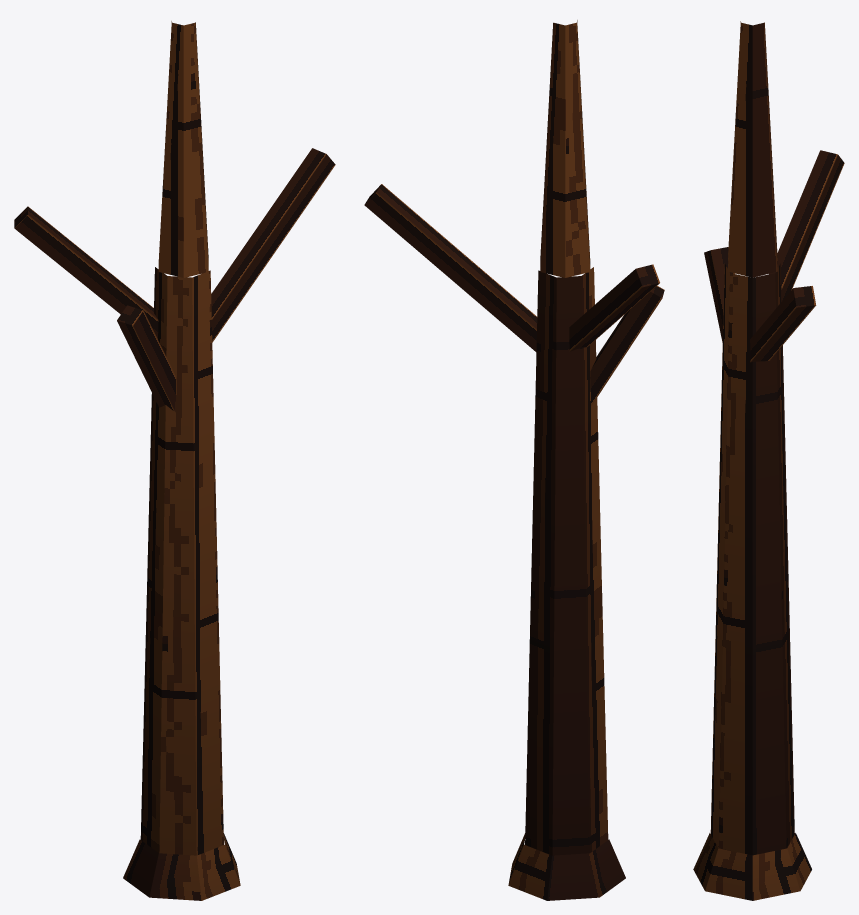
File: birch_3_trunk.glb
3 views of the same model, side by side, from view 1: azimuth 30°, elevation 25°; view 2: azimuth 150°, elevation 25°; view 3: azimuth 270°, elevation 25° (orthographic).
Parts seen in each view (by area): view 1: birch_3_trunk; view 2: birch_3_trunk; view 3: birch_3_trunk.
Part boxes in pixels (x1,y1,x2,y2): birch_3_trunk: (14,21,335,900); birch_3_trunk: (364,20,664,900); birch_3_trunk: (693,21,844,900).
Size of the model in its own units: 2.08 by 5.57 by 0.8931.
Materials: 1 (1 with a texture image).
